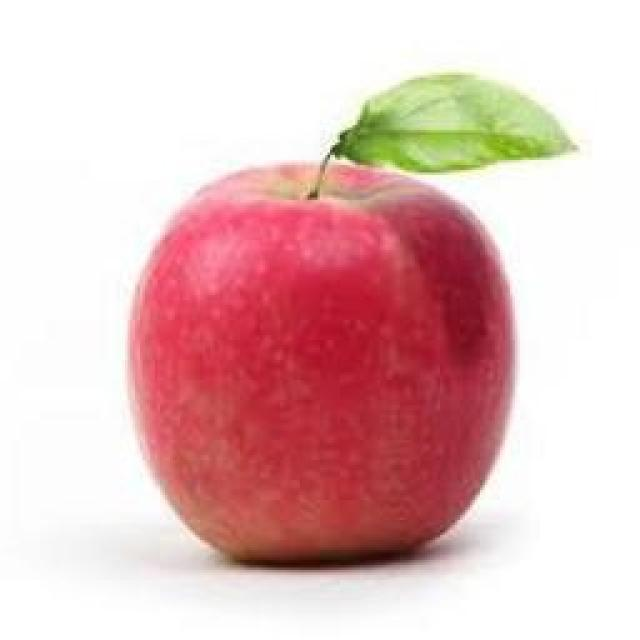Apple: (130, 165, 512, 562)
